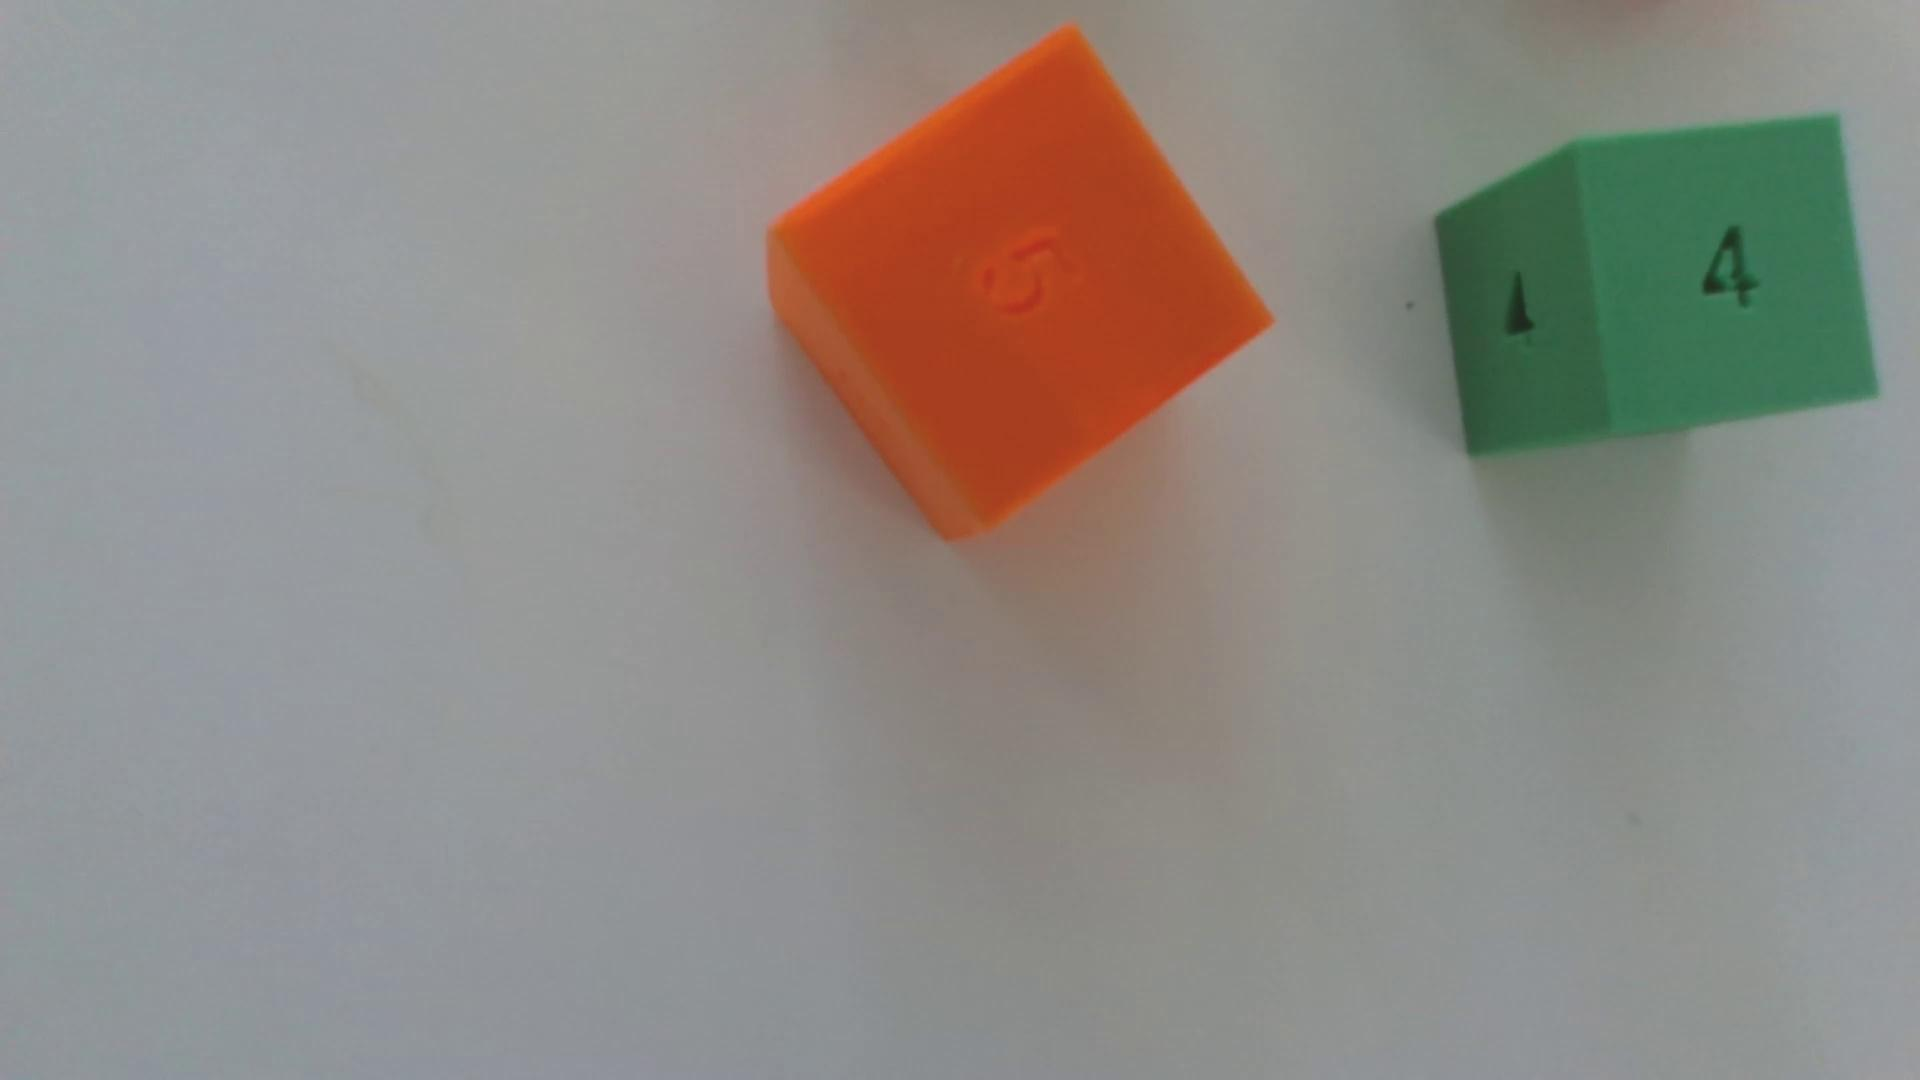green: (1436, 116, 1879, 458)
orange: (767, 26, 1271, 541)
